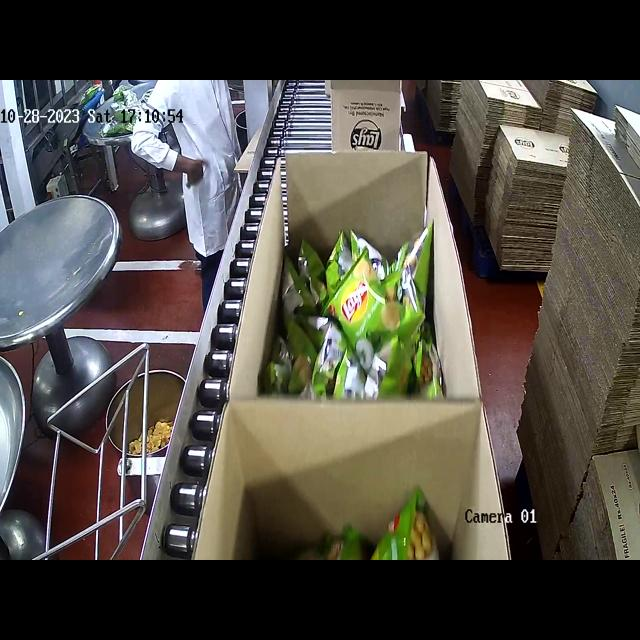yogurt: (285, 222, 444, 417), (259, 500, 475, 560)
